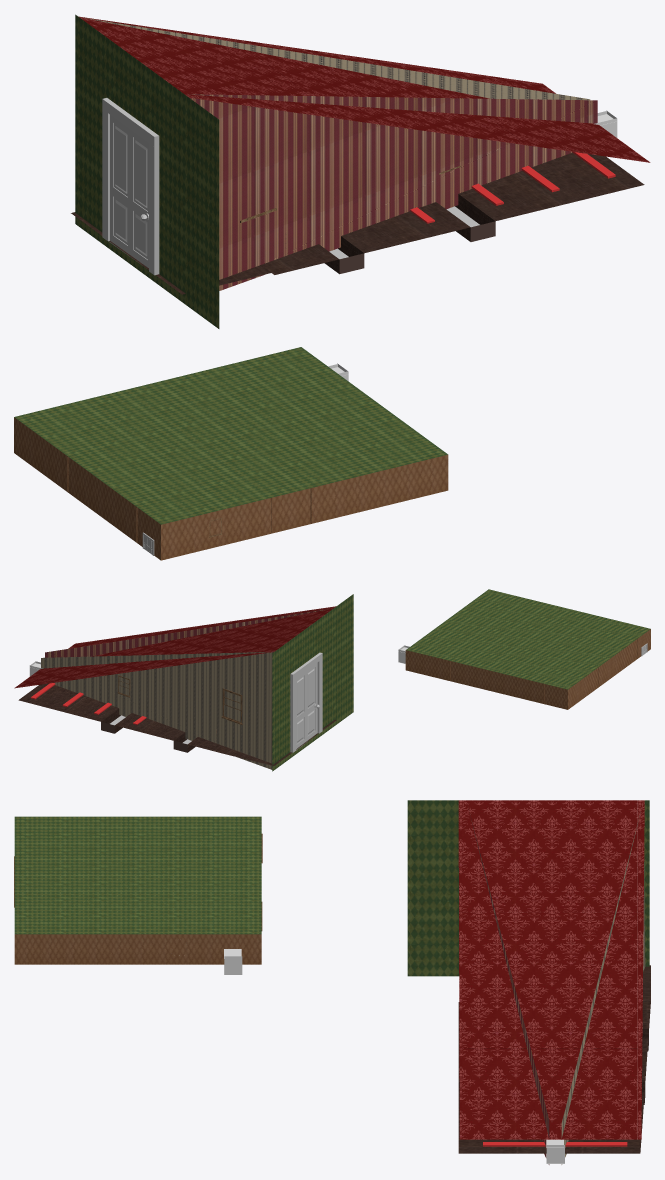
The model's file is new map granny 2.fbx.
3 renders of one model, top to bottom at view 1: azimuth 30°, elevation 25°; view 2: azimuth 150°, elevation 25°; view 3: azimuth 270°, elevation 25°, orthographic. The views are drawn at different scales.
Parts seen in each view (by area): view 1: nen.003, Part4157.005, Part4157.004, Part4157.003, nen.002, Part4157.002, bab__8_.006, Part4157.006, Part45.004; view 2: Part4157.006, nen.003, Part4157.003, Part4157.004, nen.002, Part4157.002, Part4157.005, bab__8_.006, Part45.004, Meshpart144.006; view 3: Part4157.004, nen.003, Part4157.003, nen.002, Part4157.002, Part4157.006, Part4157.005, Part62.002.
Part boxes in pixels (box(x1,y1,x2,y2)): nen.003: box(14, 347, 447, 524); Part4157.005: box(188, 94, 597, 290); Part4157.004: box(79, 16, 650, 162); Part4157.003: box(75, 14, 219, 328); nen.002: box(14, 417, 448, 560); Part4157.002: box(71, 152, 644, 294); bab__8_.006: box(109, 115, 148, 267); Part4157.006: box(81, 17, 590, 100); Part45.004: box(102, 98, 159, 275); Part4157.006: box(41, 651, 273, 769); nen.003: box(406, 589, 650, 689); Part4157.003: box(272, 594, 353, 771); Part4157.004: box(14, 606, 335, 688); nen.002: box(405, 629, 650, 709); Part4157.002: box(18, 683, 336, 765); Part4157.005: box(45, 608, 330, 657); bab__8_.006: box(296, 662, 319, 749); Part45.004: box(290, 652, 322, 752); Meshpart144.006: box(221, 688, 242, 724); Part4157.004: box(458, 800, 644, 1139); nen.003: box(14, 816, 261, 934); Part4157.003: box(407, 800, 649, 976); nen.002: box(14, 934, 261, 964); Part4157.002: box(458, 965, 650, 1153); Part4157.006: box(561, 812, 645, 1164); Part4157.005: box(468, 809, 549, 1164); Part62.002: box(483, 1142, 627, 1146).
Bounding box in the file's own units: 136 × 35.82 × 115.
